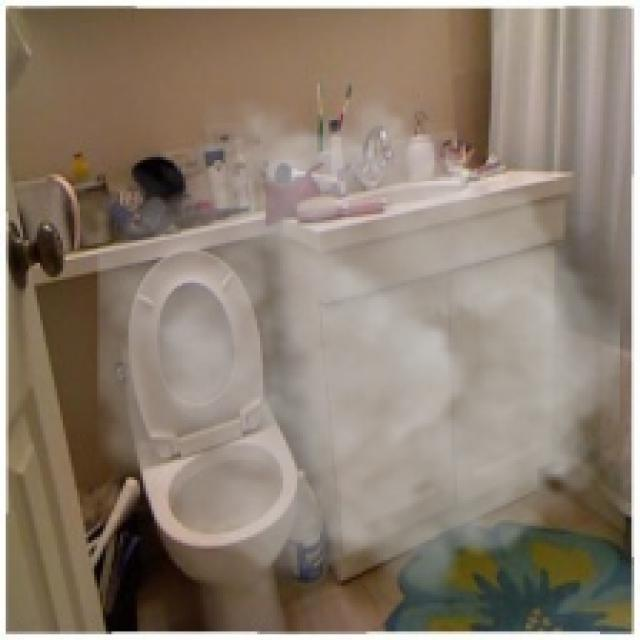Smoke: (97, 80, 620, 614)
